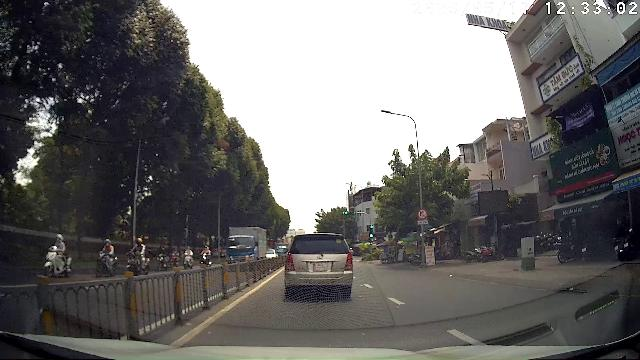103b-cam-oto-re-phai: (418, 209, 428, 219)
